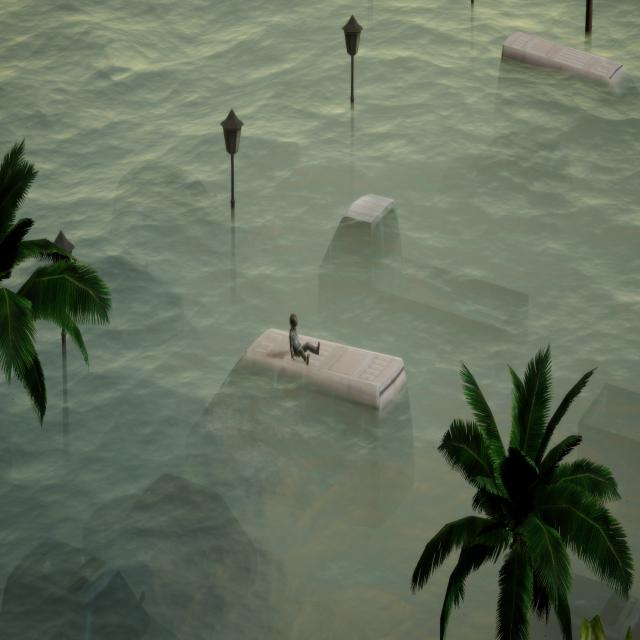Human: (281, 300, 326, 368)
